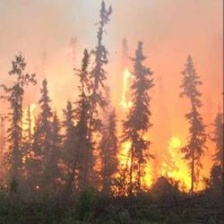fire: (112, 64, 213, 206)
